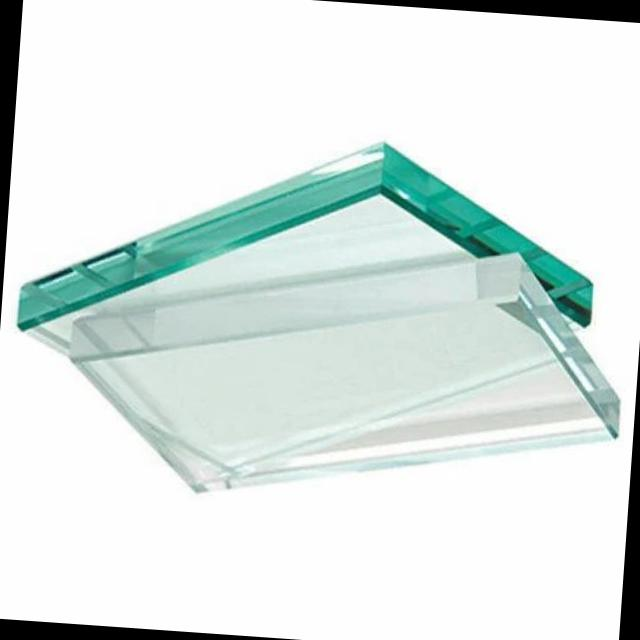glass: (0, 105, 640, 558)
